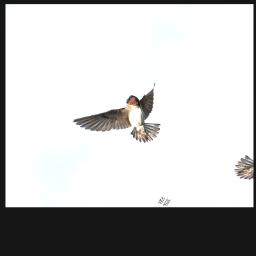Swallow: (68, 64, 187, 153)
